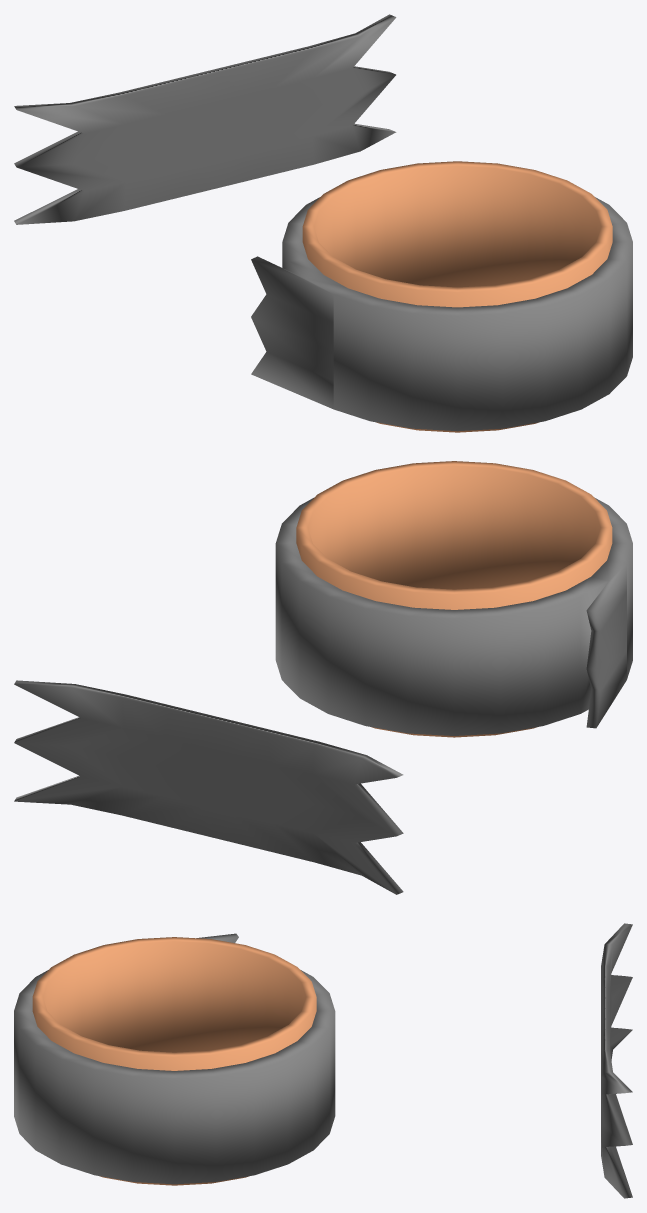
File: DuctTape.fbx
The picture shows the model from 3 angles, top to bottom: view 1: azimuth 30°, elevation 25°; view 2: azimuth 150°, elevation 25°; view 3: azimuth 270°, elevation 25°; orthographic projection. The views are drawn at different scales.
Parts seen in each view (by area): view 1: Duct_Tape_Roll, Duct_Tape_Stripe; view 2: Duct_Tape_Roll, Duct_Tape_Stripe; view 3: Duct_Tape_Roll, Duct_Tape_Stripe.
Boxes of the visible parts, box(x1,y1,x2,y2) form: Duct_Tape_Roll: box(251, 161, 632, 432); Duct_Tape_Stripe: box(14, 14, 396, 224); Duct_Tape_Roll: box(275, 461, 632, 737); Duct_Tape_Stripe: box(14, 680, 403, 894); Duct_Tape_Roll: box(14, 933, 335, 1185); Duct_Tape_Stripe: box(601, 923, 632, 1198).
Bounding box in the file's own units: 306 × 108 × 471.
